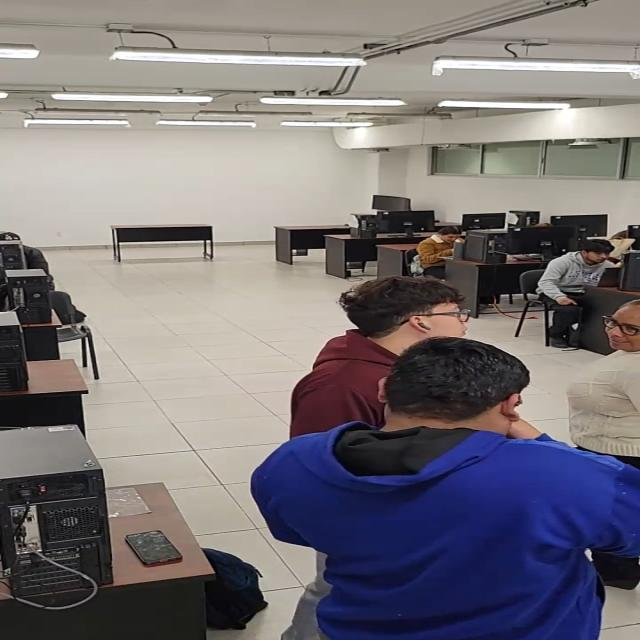Persona: (240, 330, 635, 631), (298, 255, 480, 422)
